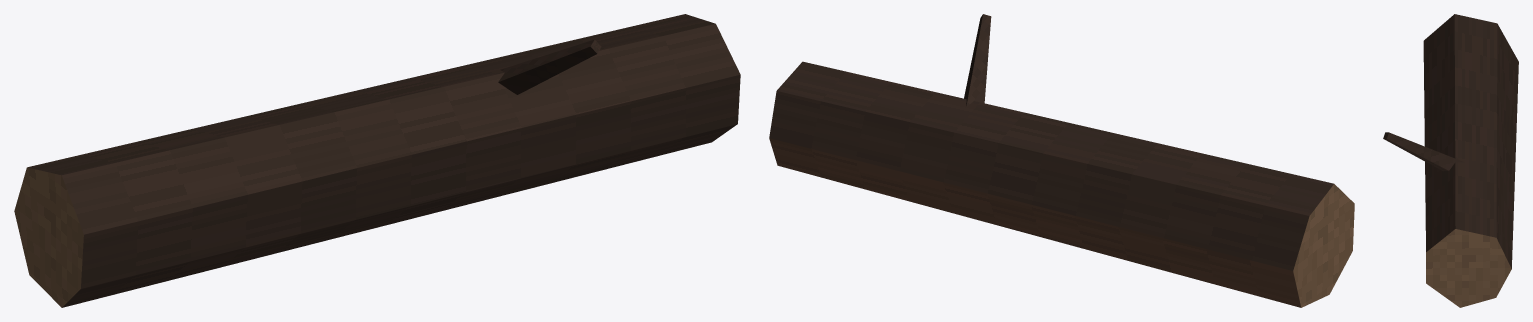
The model's file is log_fallen.glb.
The picture shows the model from 3 angles, left to right: view 1: azimuth 30°, elevation 25°; view 2: azimuth 150°, elevation 25°; view 3: azimuth 270°, elevation 25°; orthographic projection. The views are drawn at different scales.
Parts seen in each view (by area): view 1: log_fallen; view 2: log_fallen; view 3: log_fallen.
Part boxes in pixels (left/top/right/bottom): log_fallen: left=14, top=14, right=740, bottom=307; log_fallen: left=769, top=14, right=1354, bottom=307; log_fallen: left=1383, top=14, right=1518, bottom=307.
Size of the model in its own units: 3.02 by 0.8327 by 0.8236.
Materials: 1 (1 with a texture image).
